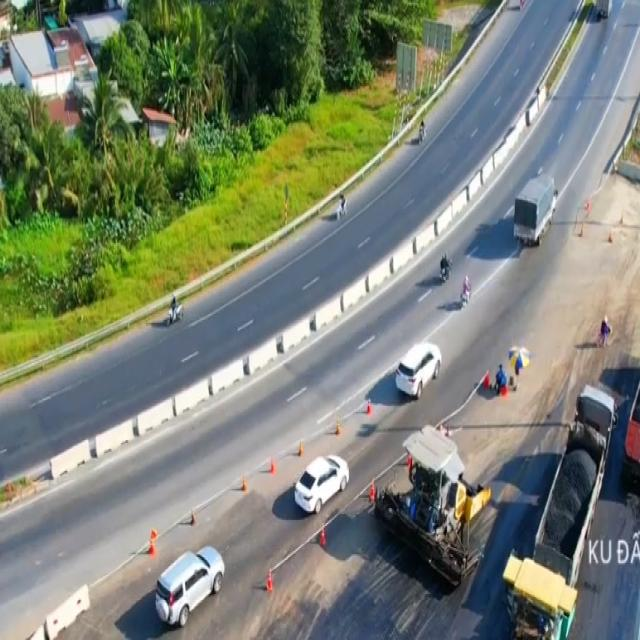car: (156, 543, 226, 625), (293, 454, 350, 516), (396, 340, 441, 406)
motorbike: (166, 293, 183, 326), (439, 253, 451, 286), (461, 275, 472, 308)
truck: (514, 172, 558, 252)
